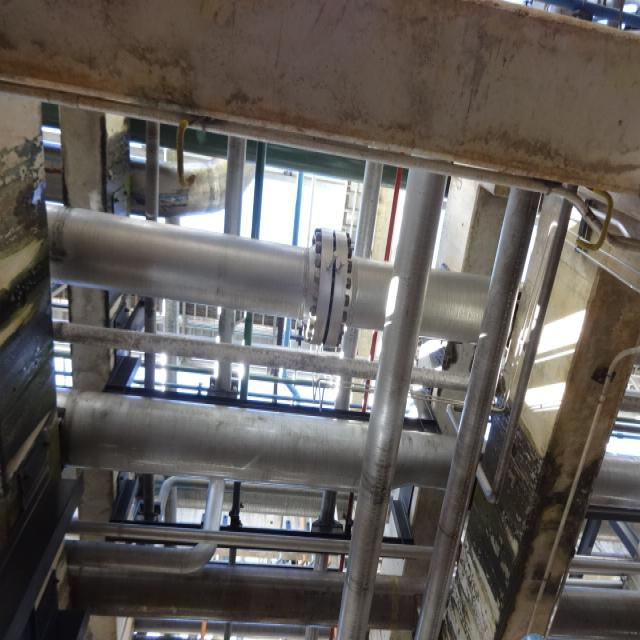gas: (54, 198, 359, 346), (71, 540, 436, 640), (65, 384, 361, 500), (352, 316, 428, 504), (353, 257, 502, 347), (415, 471, 482, 637), (383, 167, 451, 313), (449, 327, 512, 480), (369, 416, 475, 503), (333, 506, 398, 638), (485, 184, 537, 335)
